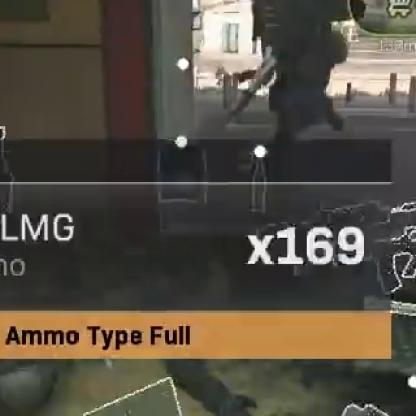enemy: (231, 1, 372, 146)
